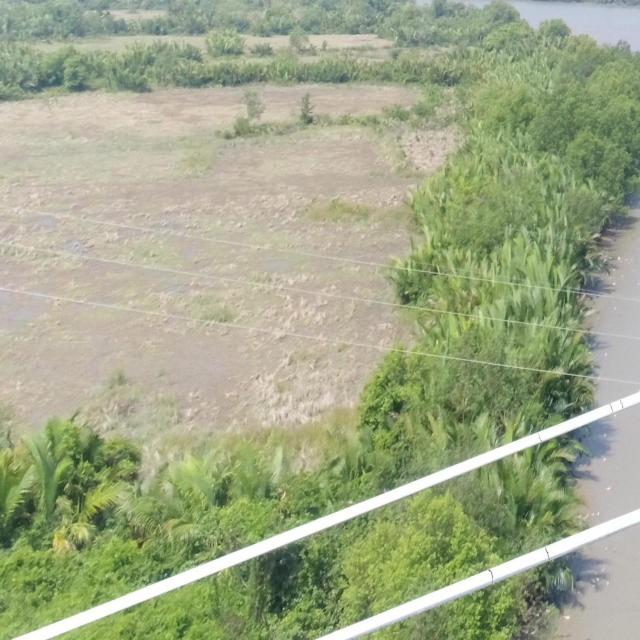crack: (544, 546, 550, 560), (488, 568, 493, 584), (619, 400, 624, 410), (609, 404, 614, 414), (538, 432, 542, 442)
